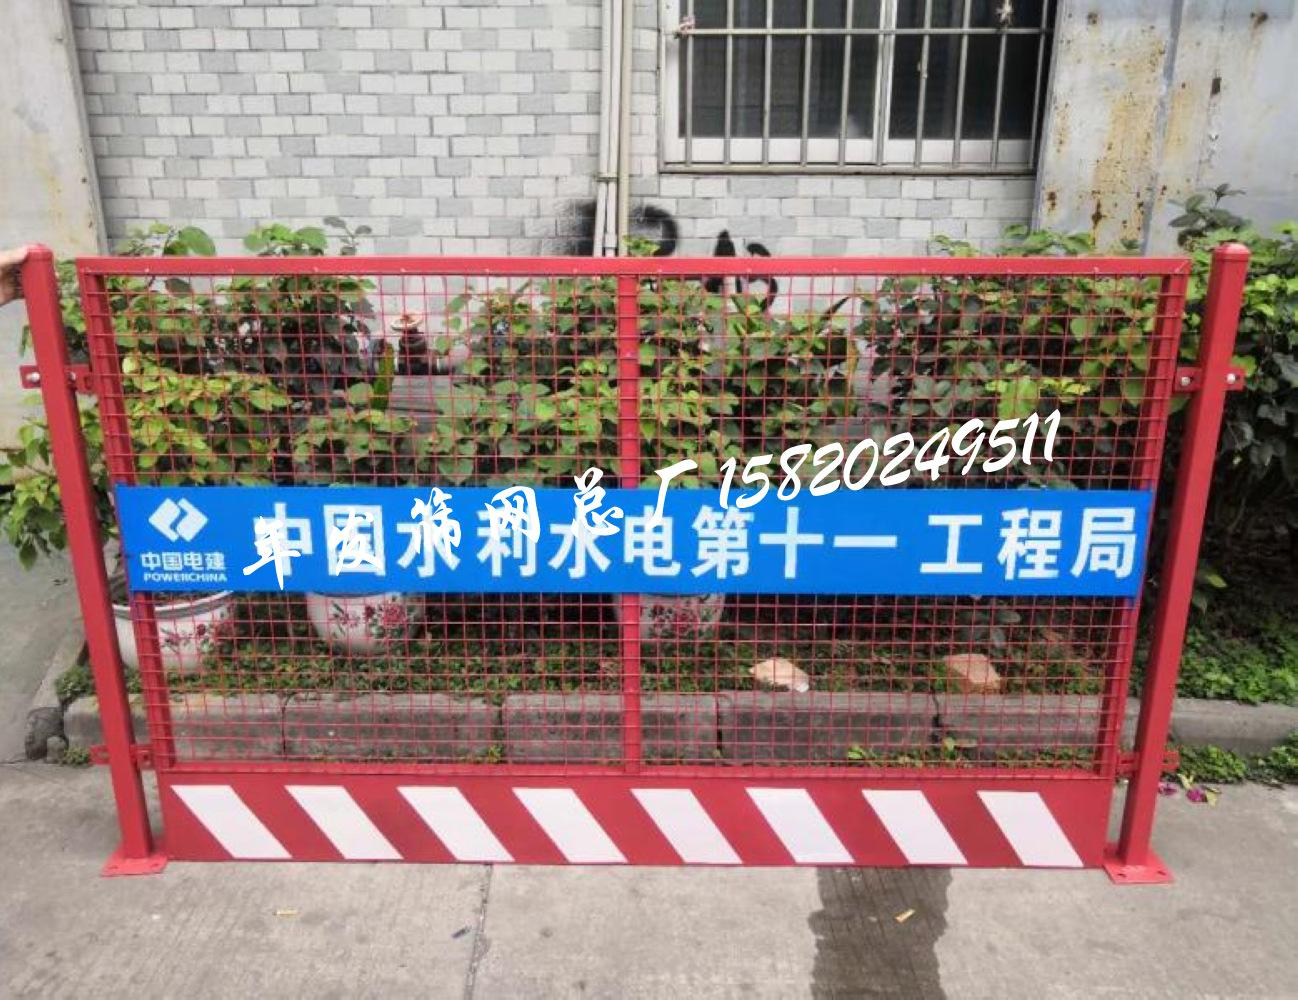sign: (11, 210, 1257, 883)
